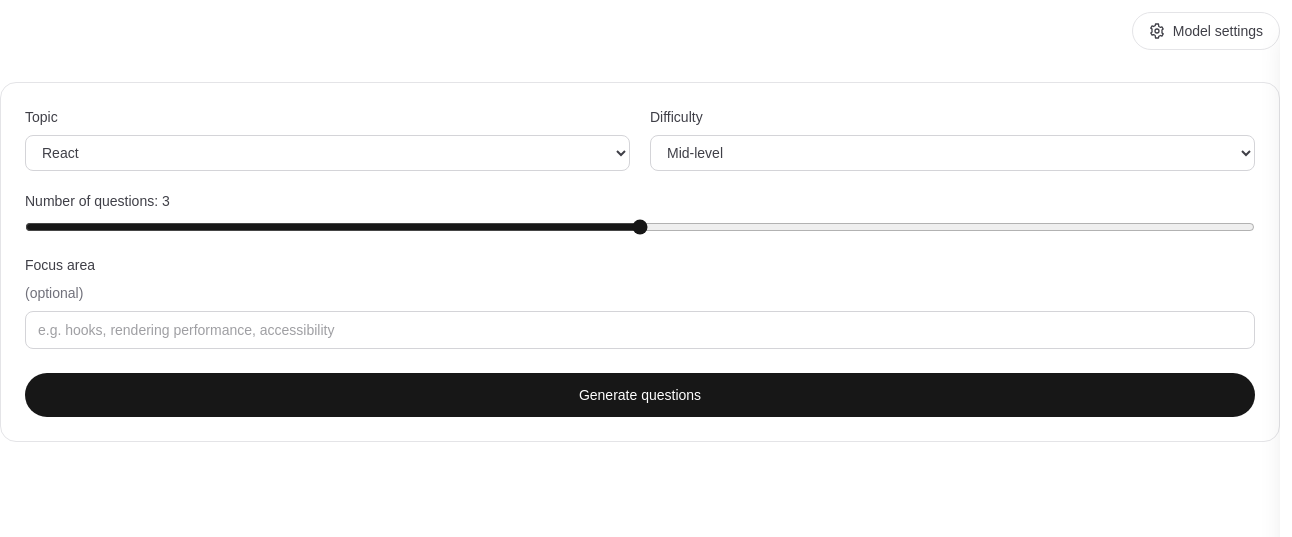
Scenario: InterviewForm › shows an error message when the API returns a non-OK status
What coordinates should you click on to do the following:
click the button "Generate questions"
I would click on:
 (640, 395)
Its box is x1=25 y1=373 x2=1255 y2=417.
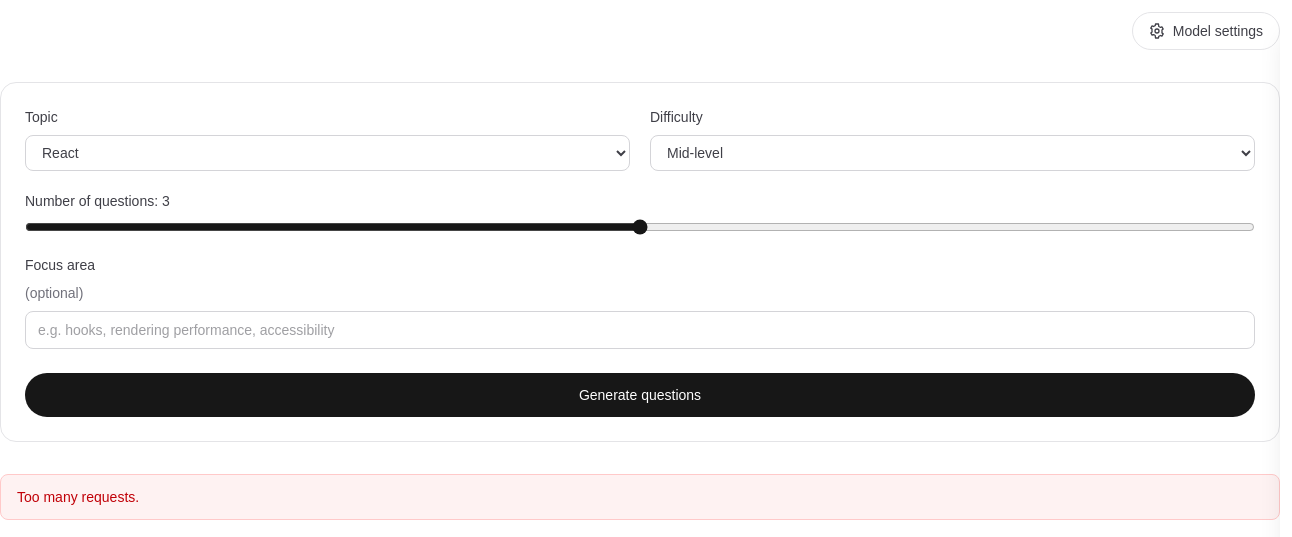
Expected: the message shows "Too many requests", x1=17 y1=489 x2=139 y2=505
